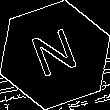N_S: (26, 25, 84, 85)
